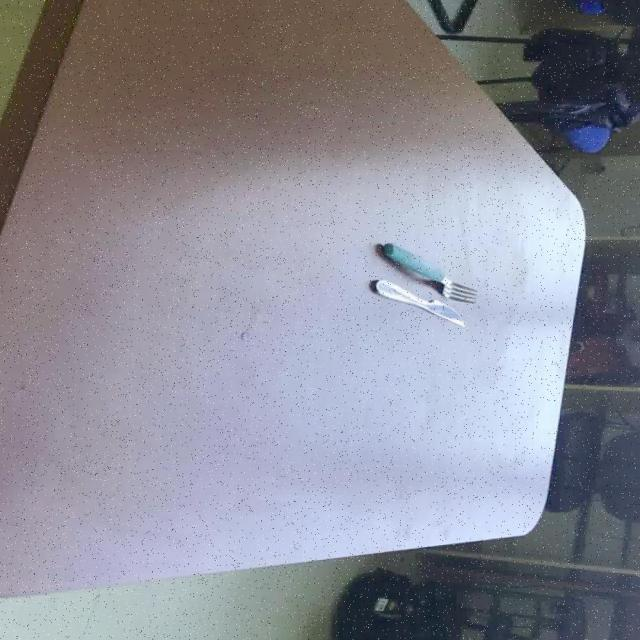Fork: (378, 242, 478, 303)
Knife: (368, 279, 464, 326)
